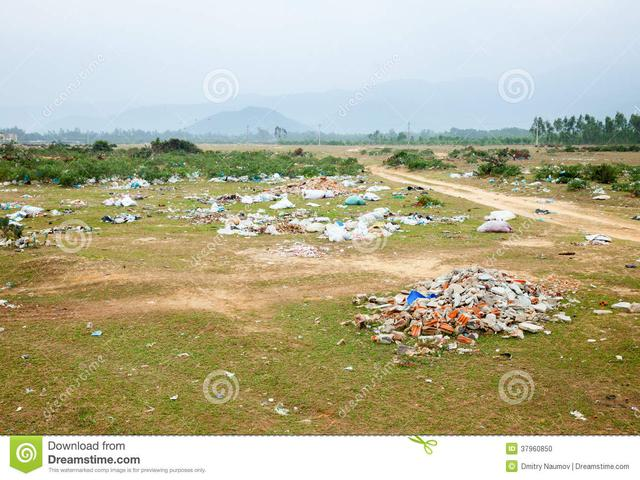garbage: (388, 289, 556, 337)
